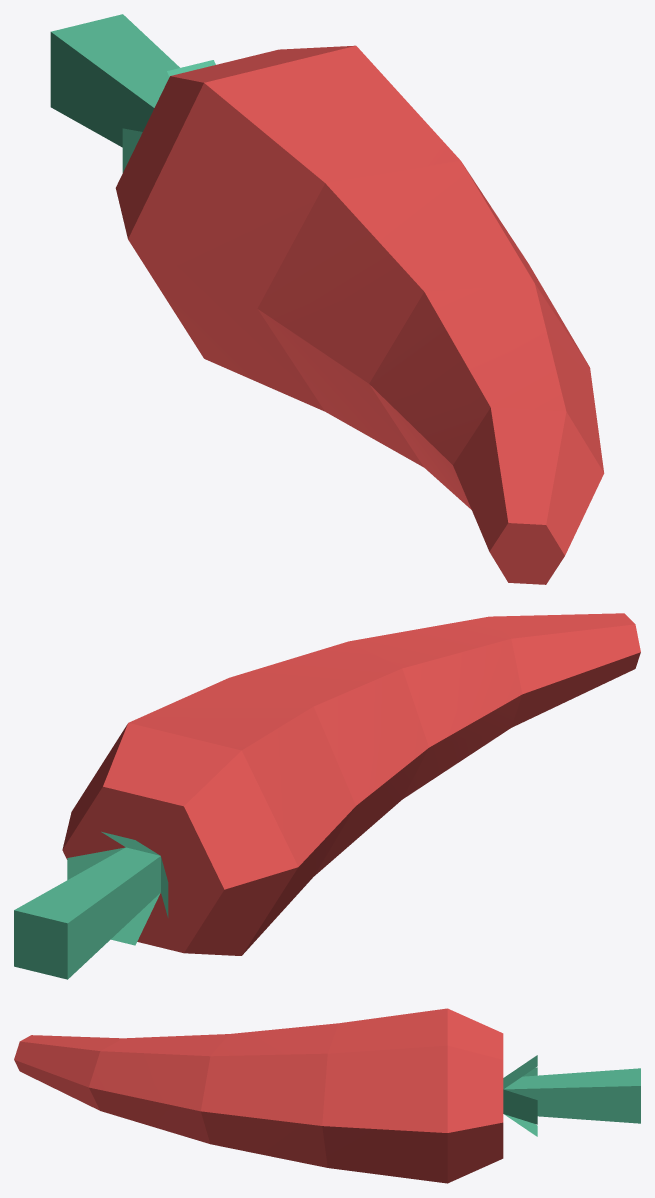
Rendered from pepper.obj.
3 renders of one model, top to bottom at view 1: azimuth 30°, elevation 25°; view 2: azimuth 150°, elevation 25°; view 3: azimuth 270°, elevation 25°, orthographic. The views are drawn at different scales.
Visible parts, largest first — view 1: pepper; view 2: pepper; view 3: pepper.
Part boxes in pixels (x1,y1,x2,y2): pepper: [50, 14, 604, 584]; pepper: [14, 613, 640, 979]; pepper: [14, 1008, 640, 1183].
Bounding box in the file's own units: 0.1039 × 0.0775 × 0.3191.
